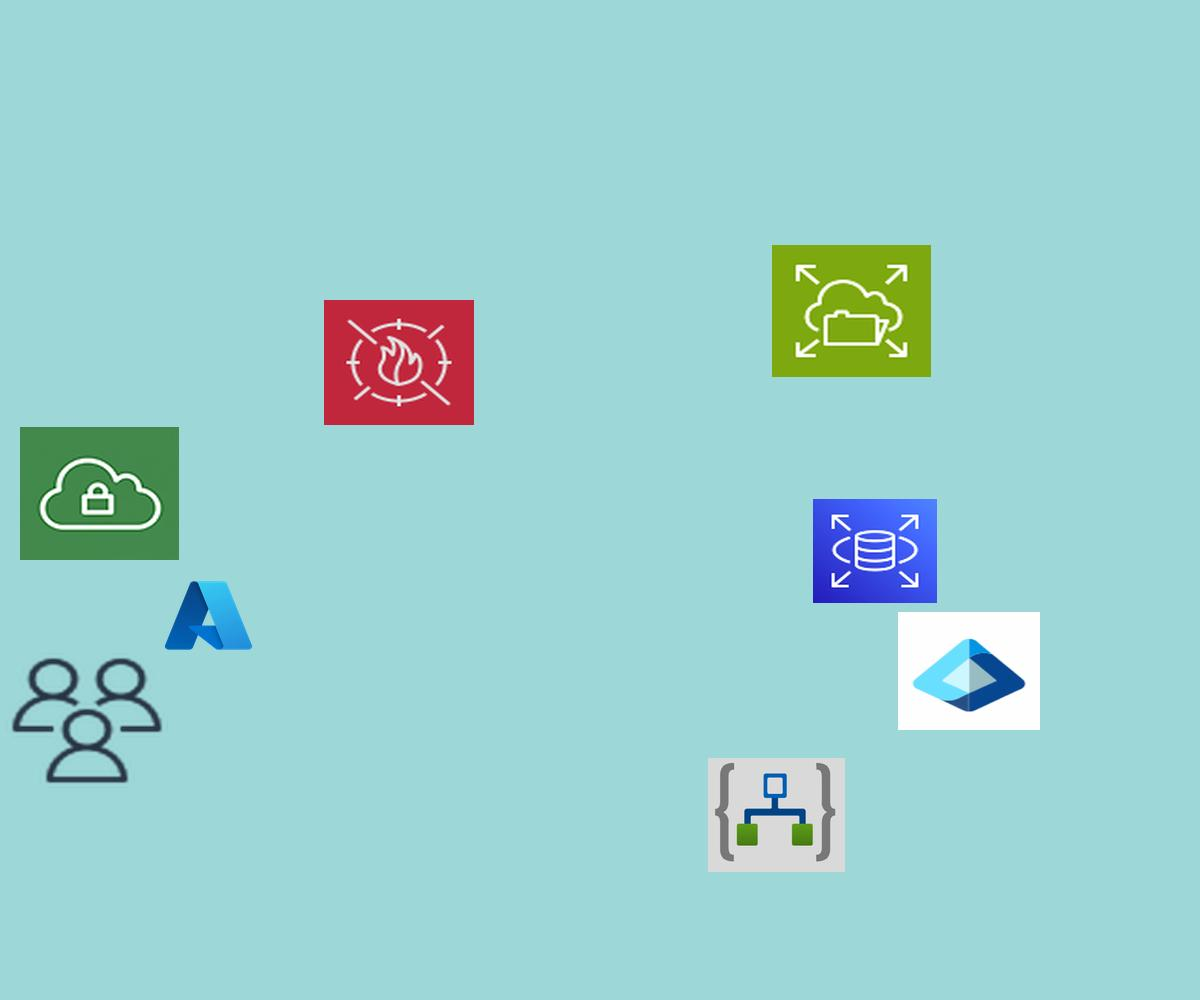AWS-EFS: (772, 245, 931, 377)
AWS-Private_vpc: (20, 427, 179, 560)
AWS-RDS: (813, 499, 937, 603)
AWS-Res_Users: (6, 653, 168, 788)
AWS-WAF: (324, 300, 474, 425)
Azure_integration-204-Logic-Apps: (708, 758, 845, 872)
Azure_microsoft_entra: (898, 612, 1040, 730)
Azure_services: (161, 576, 256, 655)
